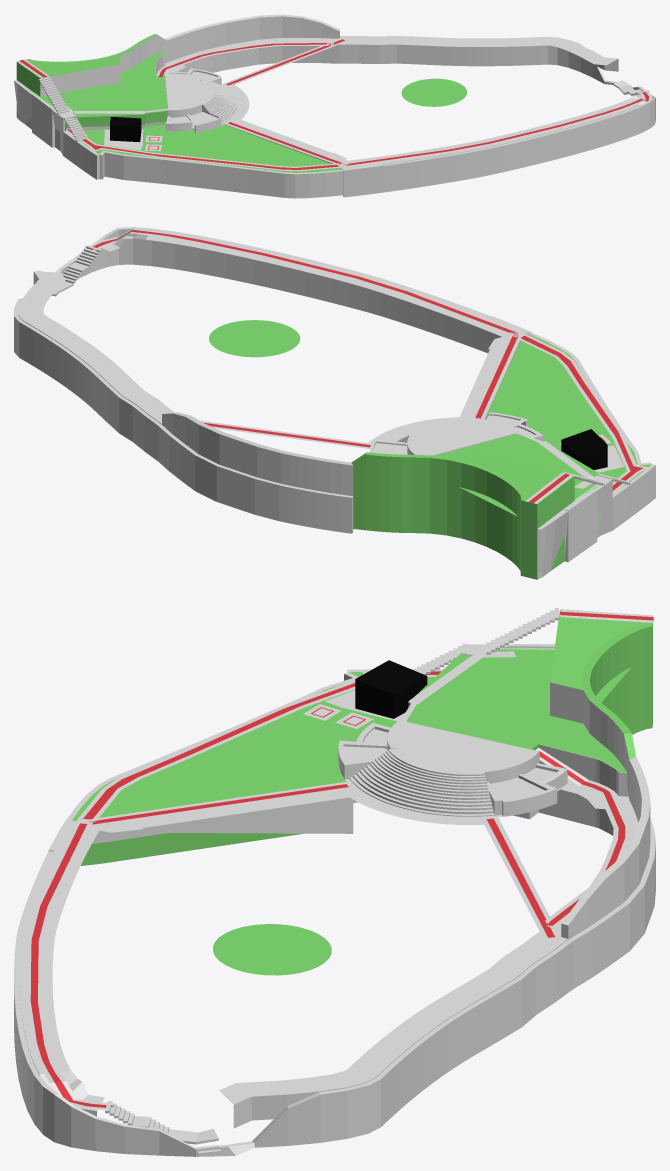
3 views of the same model, one above another, from view 1: azimuth 30°, elevation 25°; view 2: azimuth 150°, elevation 25°; view 3: azimuth 270°, elevation 25° (orthographic). The views are drawn at different scales.
Visible parts, largest first — view 1: Circle.002; view 2: Circle.002; view 3: Circle.002.
Boxes of the visible parts, x1,y1,x2,y2 form: Circle.002: (14,14,655,198); Circle.002: (14,227,655,579); Circle.002: (14,608,655,1156).
Size of the model in its own units: 2505 by 295 by 1537.
